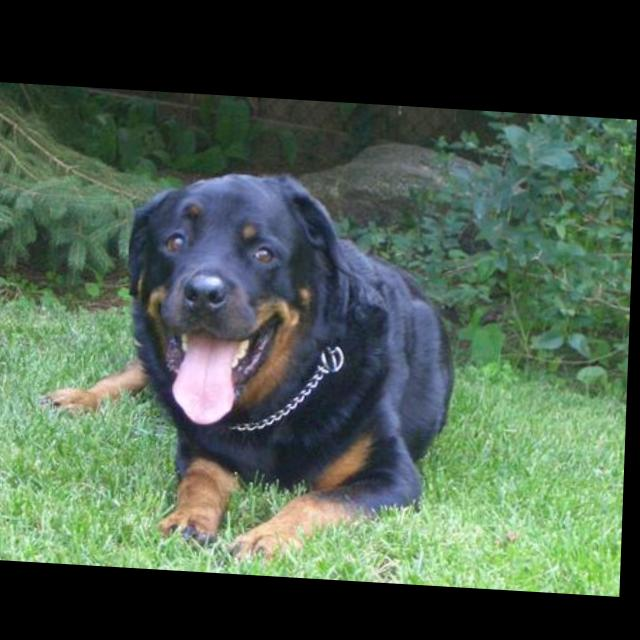rottweiler: (40, 157, 466, 571)
